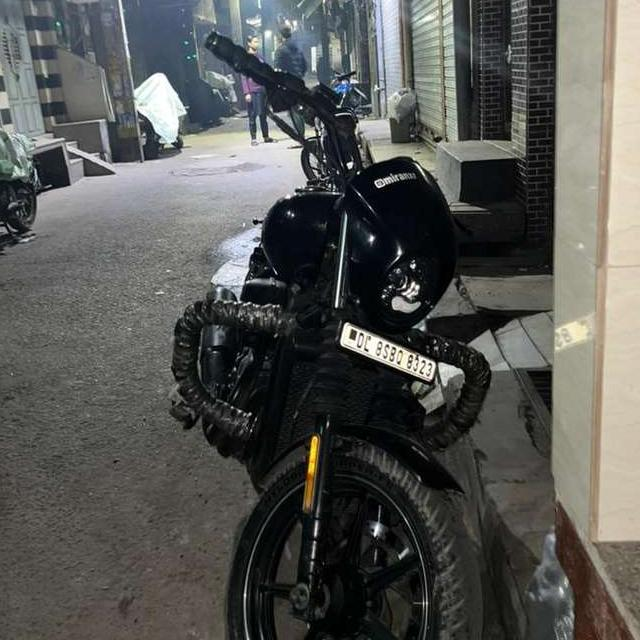Indian_Number_Plate: (339, 320, 439, 383)
